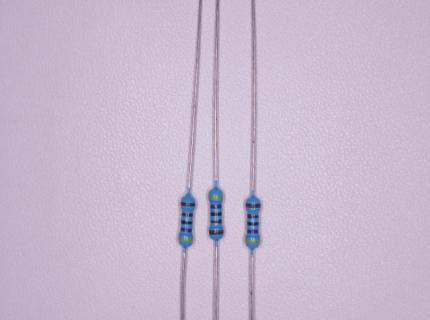Black band: (247, 222, 259, 226), (181, 220, 192, 224), (211, 212, 222, 216)
Brown band: (209, 230, 224, 235), (245, 204, 261, 208), (180, 202, 195, 206), (181, 213, 193, 217), (211, 219, 222, 223), (247, 214, 258, 218)
Violet band: (180, 228, 192, 233), (247, 229, 258, 234), (210, 205, 222, 209)
Yellow band: (178, 237, 193, 241), (209, 195, 223, 199), (246, 240, 260, 243)
